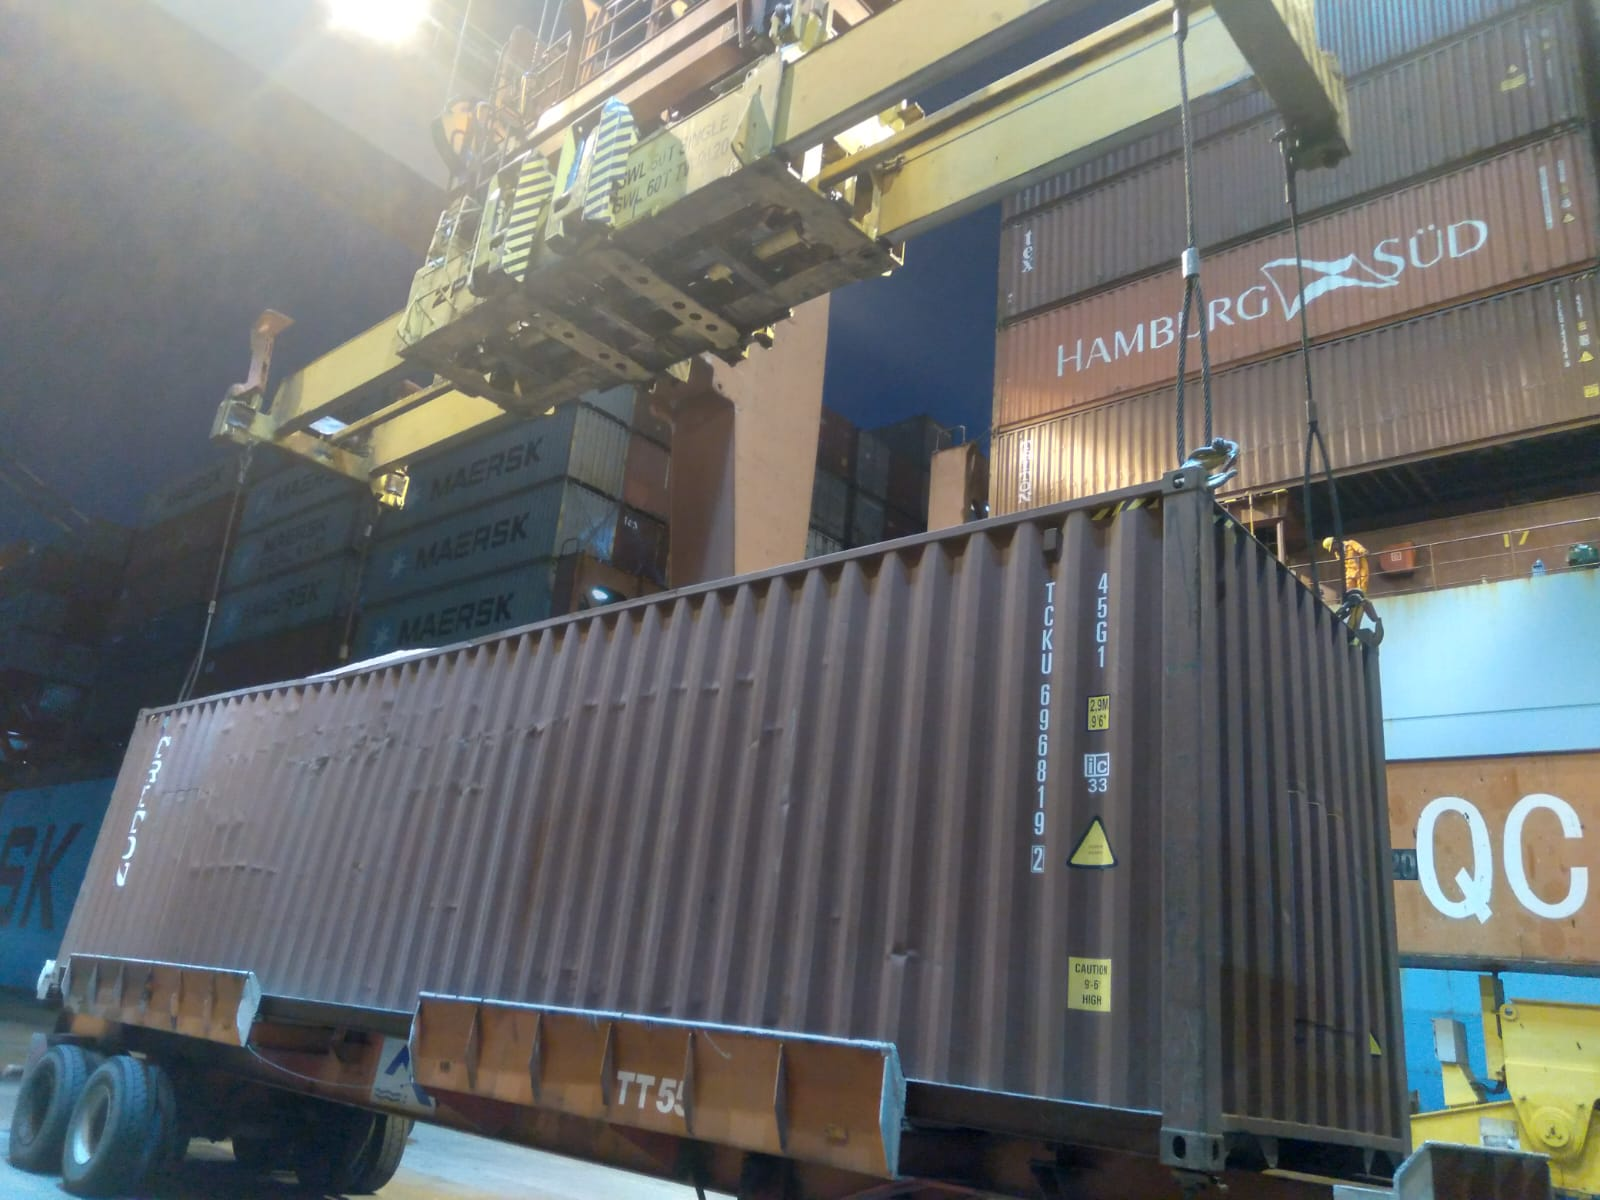dented: (341, 654, 787, 780), (189, 732, 339, 792), (174, 848, 321, 892)
